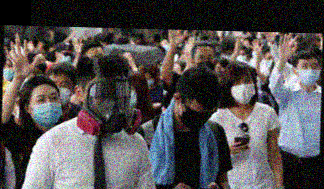with_mask: (82, 83, 131, 133), (27, 91, 63, 128), (179, 102, 213, 132), (229, 75, 256, 104), (49, 77, 73, 105), (297, 61, 320, 85), (194, 52, 217, 72), (57, 49, 74, 66), (31, 57, 47, 75), (3, 61, 16, 81)
